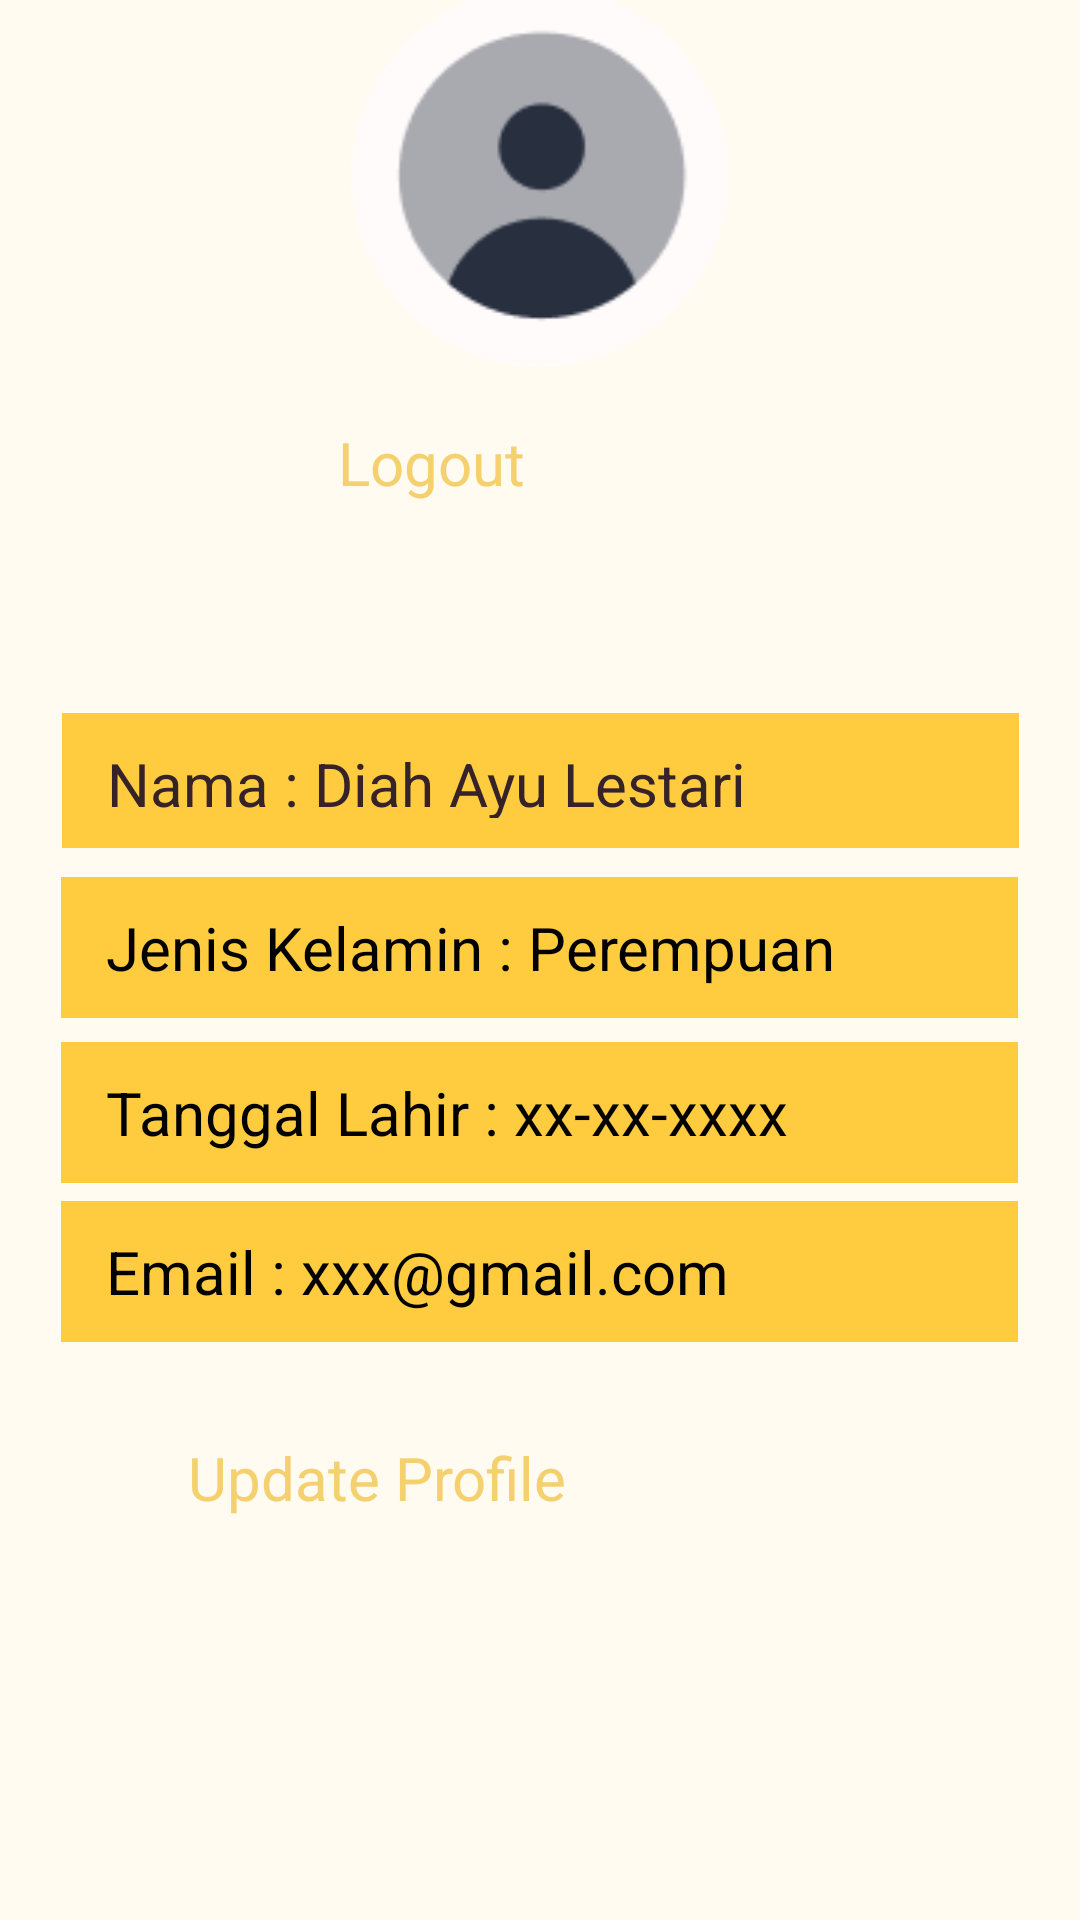

Locate icon controls on the screen. Image size 1080 x 1920, boxes as Rect(x1, y1, x2, y2).
user: Rect(398, 32, 686, 320)
